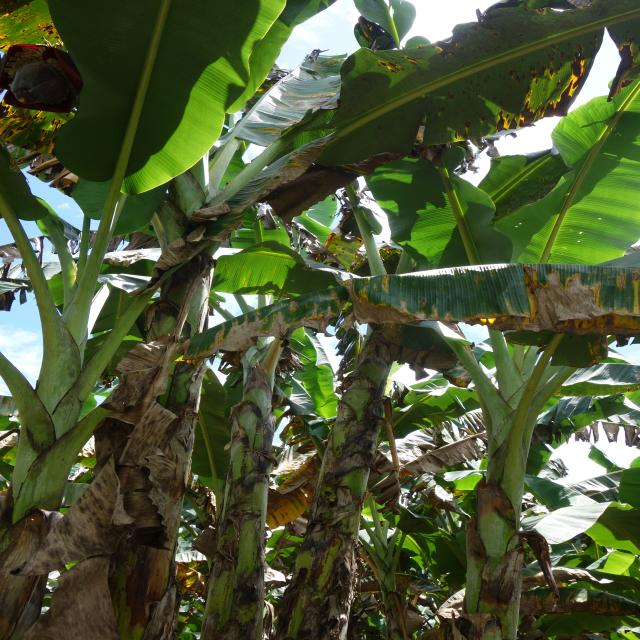Banana-plant: (0, 242, 183, 640), (398, 331, 622, 635), (297, 248, 455, 640), (204, 251, 307, 640)
